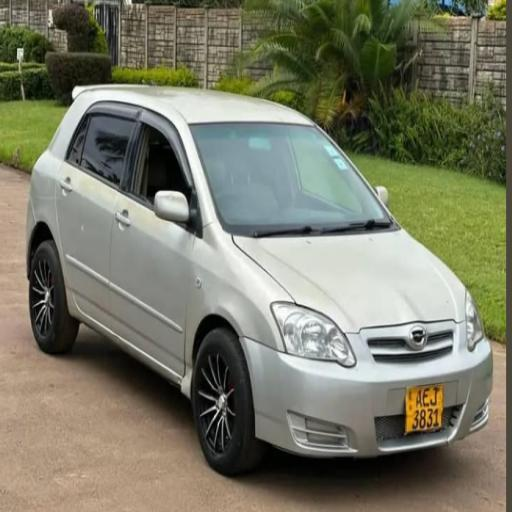number-plates: (406, 384, 446, 432)
